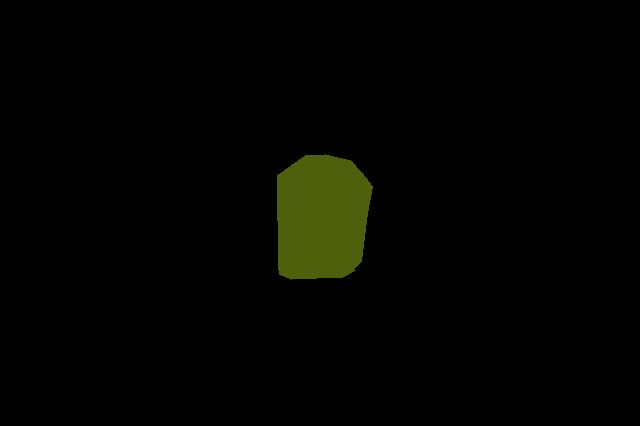Train: (277, 154, 373, 279)
